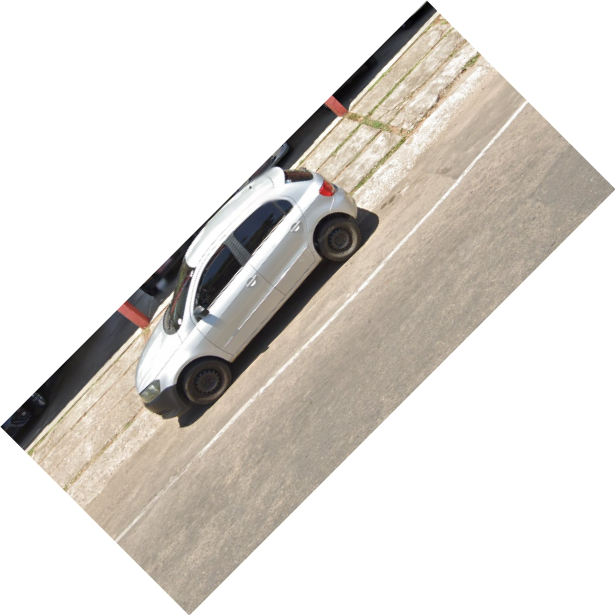car: (131, 162, 361, 427)
